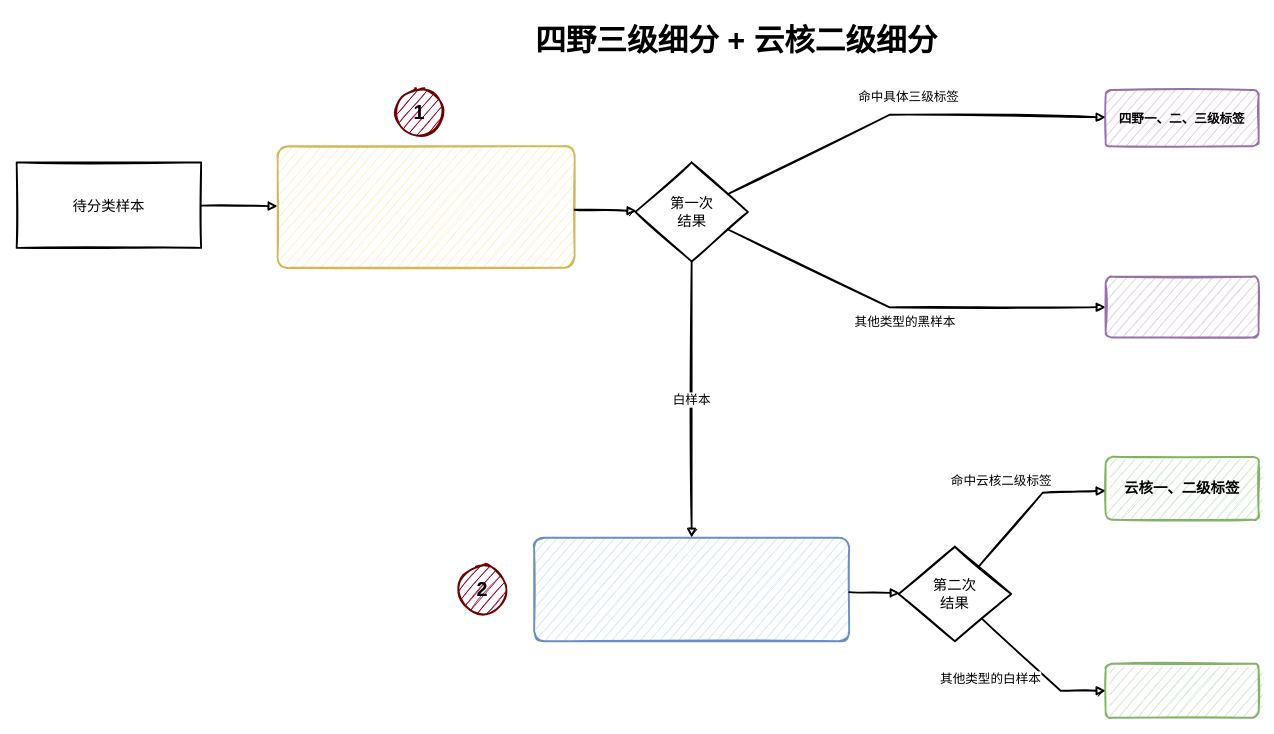
Some shapes in this 1274 by 734 pixel diagram are drawn without their labels. Each missing label, with the centre of its shape:
"其他白样本" goes at (1181,690).
"其他黑样本" goes at (1181,306).
"输入：所有云核二级标签 输出：云核二级标签 / 其他白样本" goes at (691,589).
"输入：所有四野三级标签 + 违规描述 输出：四野三级标签 / 其他黑样本 / 白样本" goes at (425,206).
